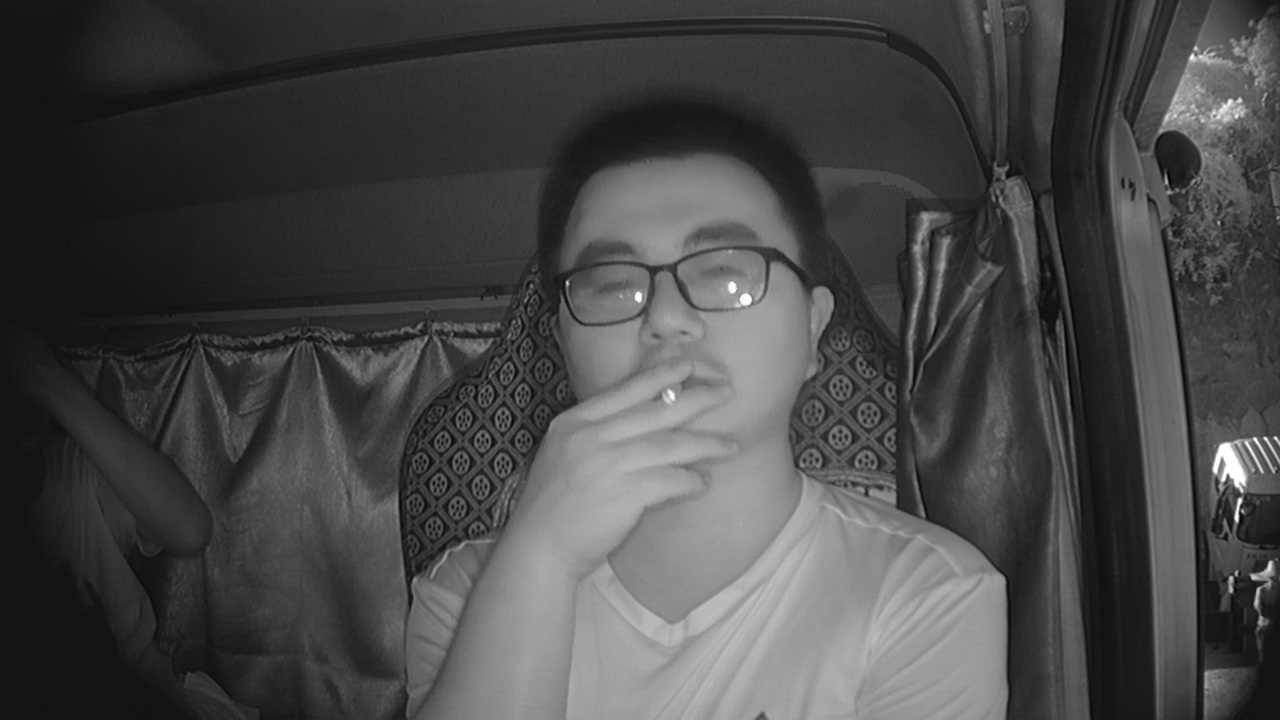hand: (543, 353, 730, 555)
